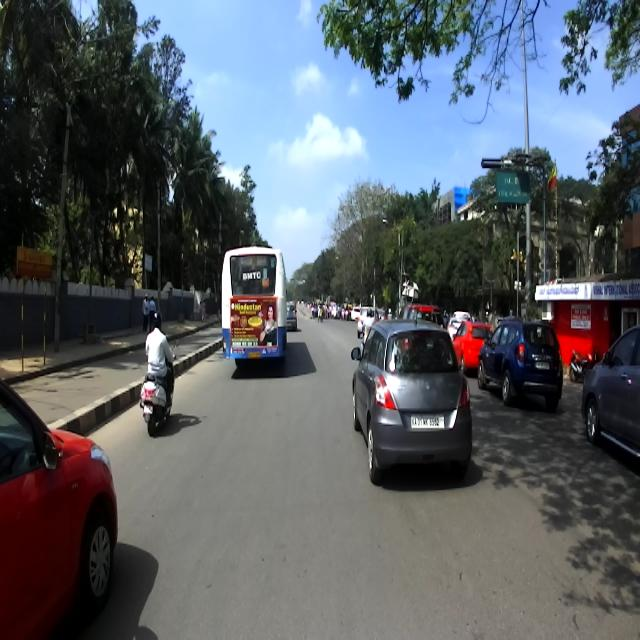bus ahead at: (214, 239, 293, 376)
car ahead at: (0, 360, 120, 638), (349, 310, 474, 486), (583, 306, 640, 482), (487, 310, 565, 419)
motorcycle ahead at: (141, 372, 175, 435)
